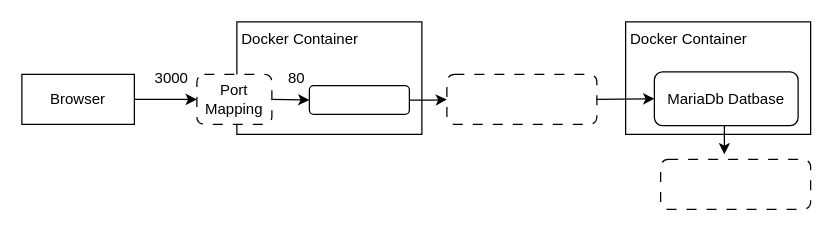
Some shapes in this 833 by 231 pixel diagram are drawn without their labels. The shapes that lost their labels are listed below. From the top down, each one's centre as x and y in pixels, then its label:
pixel 358 99: MVC app
pixel 521 98: exampleapp05-net Network
pixel 735 183: exampleapp05-vol Volume
